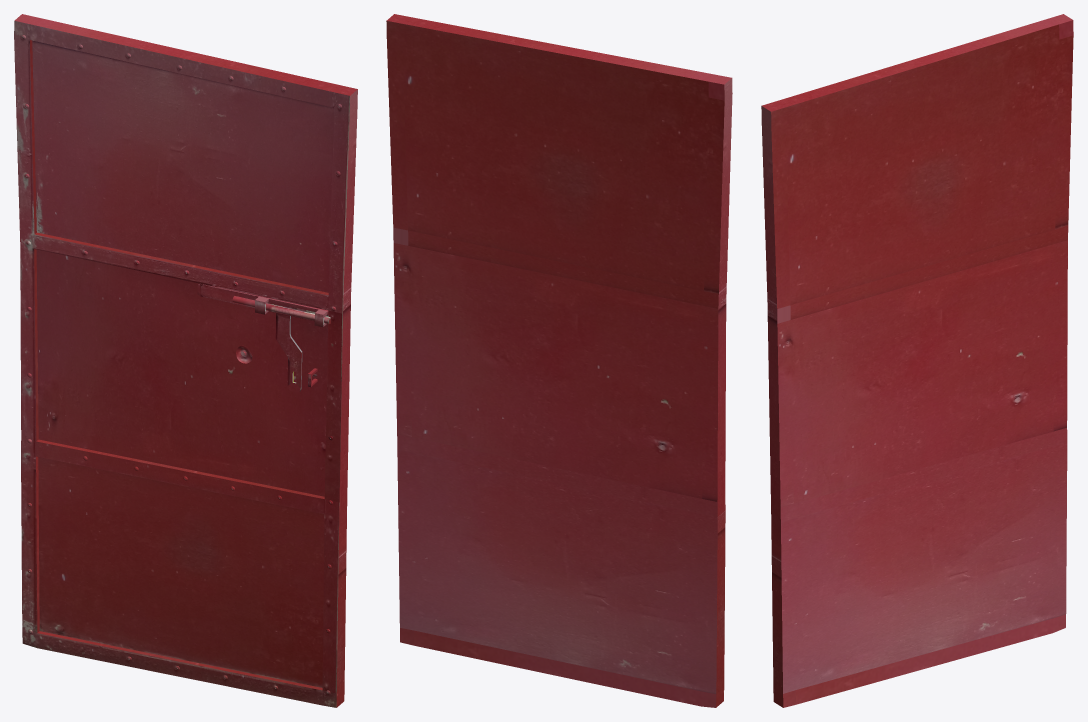
Rendered from Door_Metal.obj.
3 renders of one model, left to right at view 1: azimuth 30°, elevation 25°; view 2: azimuth 210°, elevation 25°; view 3: azimuth 270°, elevation 25°, orthographic. The views are drawn at different scales.
Parts seen in each view (by area): view 1: Cube.003; view 2: Cube.003; view 3: Cube.003.
Part boxes in pixels (x1,y1,x2,y2): Cube.003: (14, 14, 357, 707); Cube.003: (386, 14, 732, 707); Cube.003: (761, 14, 1073, 707).
Size of the model in its own units: 1.1 by 3.39 by 1.58.
1 material, 1 textured.
